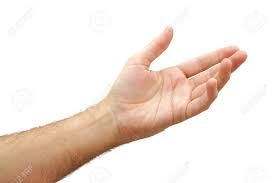hand: (95, 13, 253, 146)
